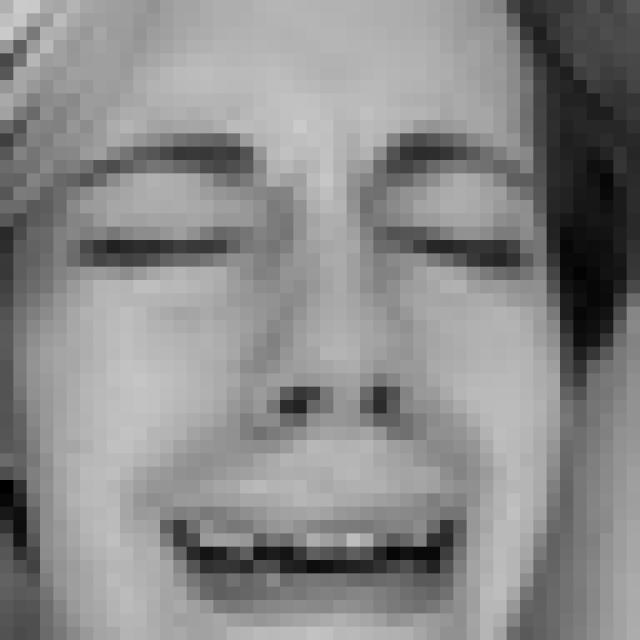sad: (53, 120, 542, 629)
